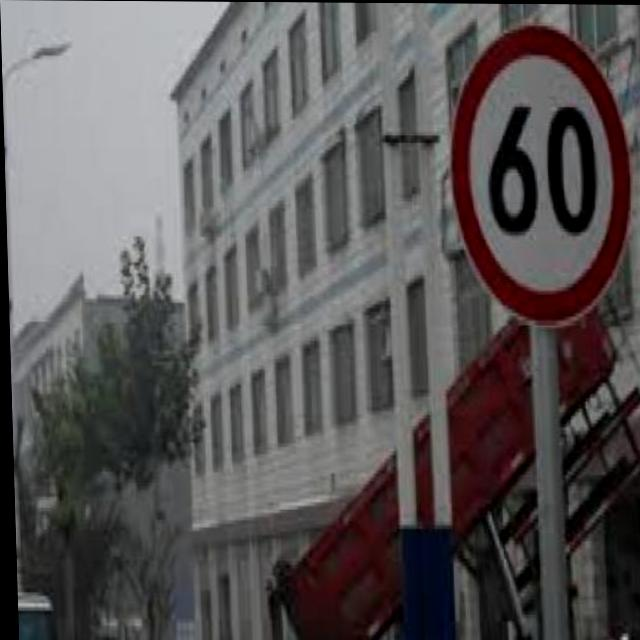limit60: (440, 20, 638, 328)
